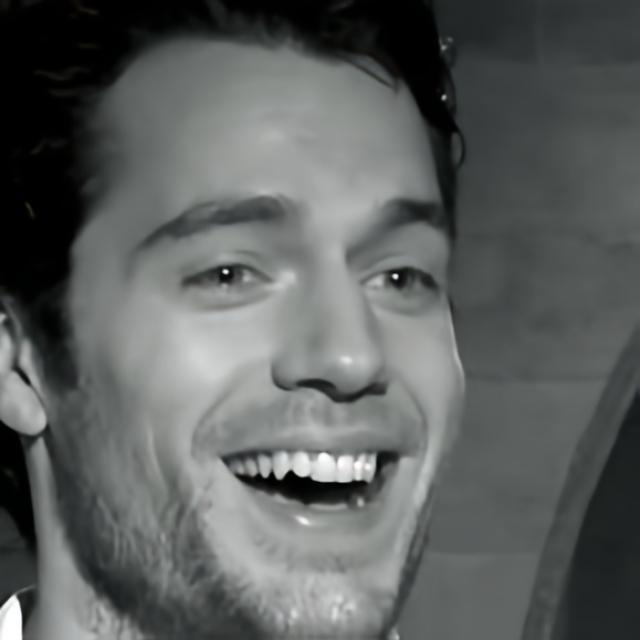happy: (53, 24, 470, 640)
